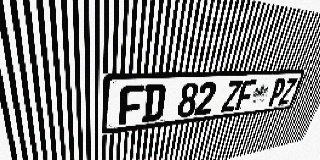2: (194, 81, 218, 116)
8: (176, 82, 200, 118)
D: (141, 84, 167, 122)
F: (119, 85, 144, 125), (235, 80, 257, 111)
P: (267, 78, 288, 106)
Z: (220, 80, 243, 112), (278, 78, 298, 105)
